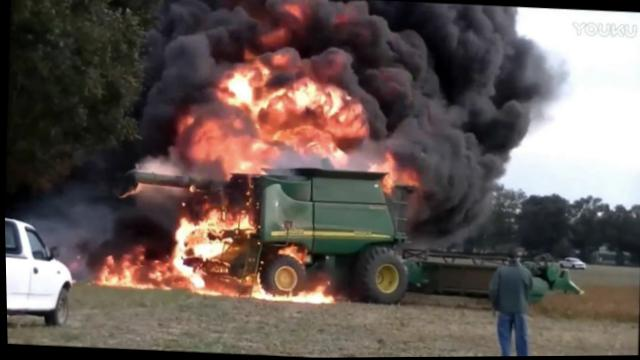fire: (255, 107, 342, 163), (192, 126, 265, 173), (172, 217, 208, 253), (93, 257, 135, 287), (264, 289, 332, 305), (286, 84, 328, 109), (131, 262, 168, 289), (225, 71, 253, 101), (379, 158, 403, 192), (204, 276, 238, 296), (179, 266, 202, 289), (196, 240, 224, 256), (208, 207, 224, 228), (226, 212, 247, 228), (249, 283, 265, 299), (169, 255, 183, 272)
